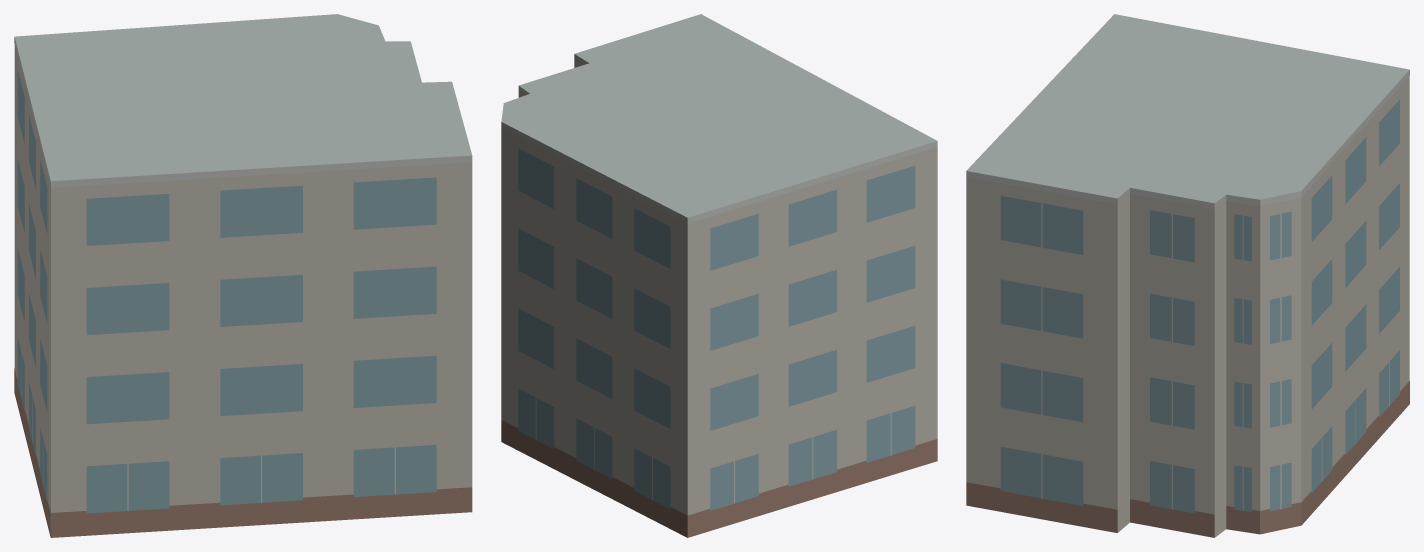
The model's file is survey-upis-32531718.glb.
The picture shows the model from 3 angles, left to right: view 1: azimuth 30°, elevation 25°; view 2: azimuth 150°, elevation 25°; view 3: azimuth 270°, elevation 25°; orthographic projection. The views are drawn at different scales.
Visible parts, largest first — view 1: survey-upis-32531718.tmp; view 2: survey-upis-32531718.tmp; view 3: survey-upis-32531718.tmp.
Part boxes in pixels (box(x1,y1,x2,y2)): survey-upis-32531718.tmp: box(14, 14, 472, 537); survey-upis-32531718.tmp: box(501, 14, 937, 537); survey-upis-32531718.tmp: box(966, 14, 1409, 537).
Bounding box in the file's own units: 16.02 × 13.2 × 15.87.
